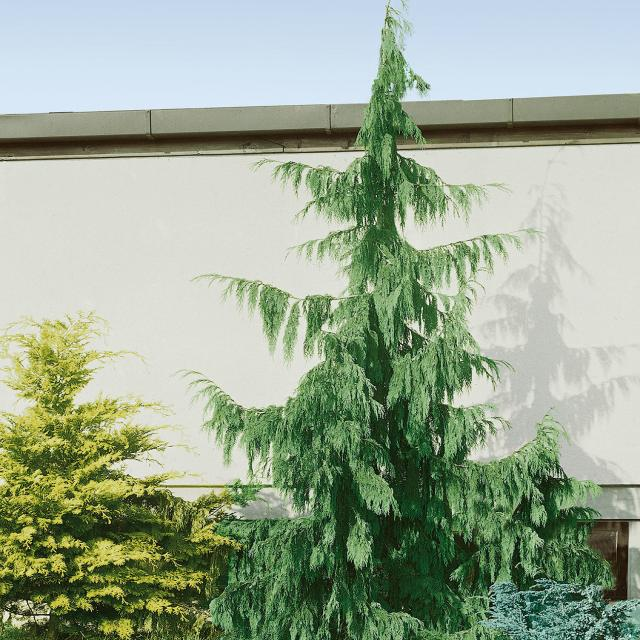Cupressus nootkatensis: (218, 10, 600, 640)
